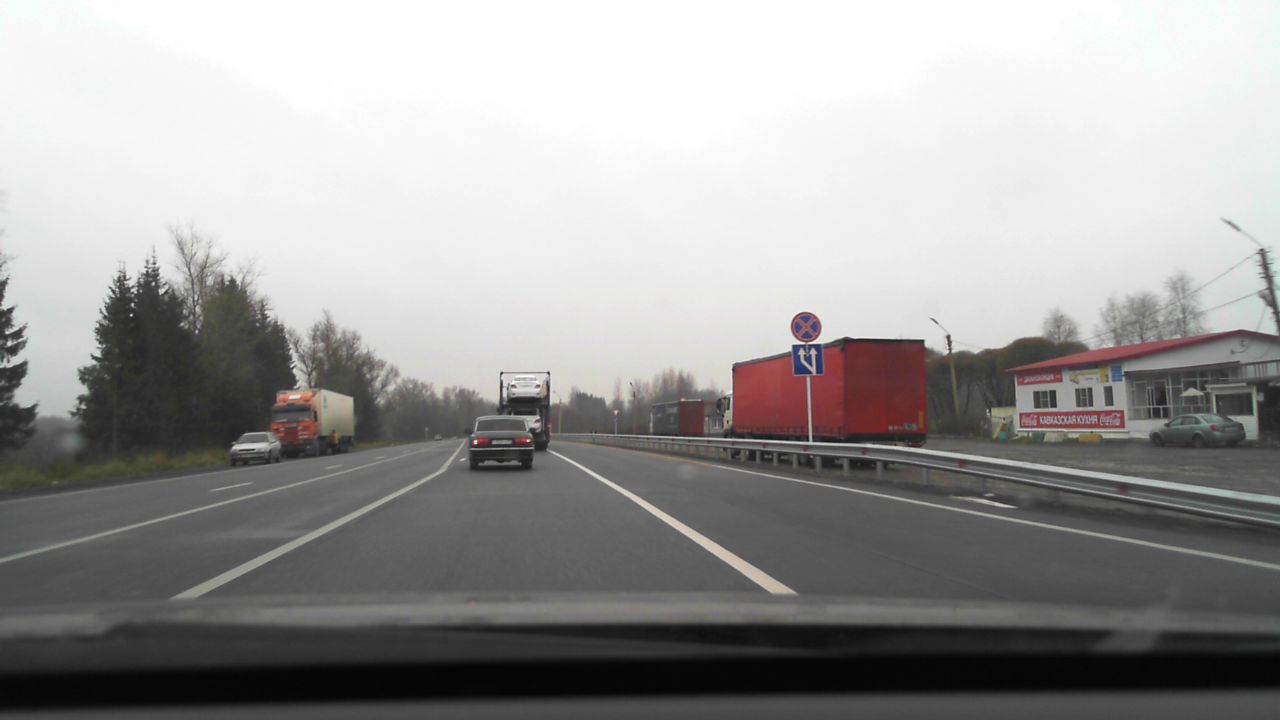No Parking: (790, 311, 822, 342)
